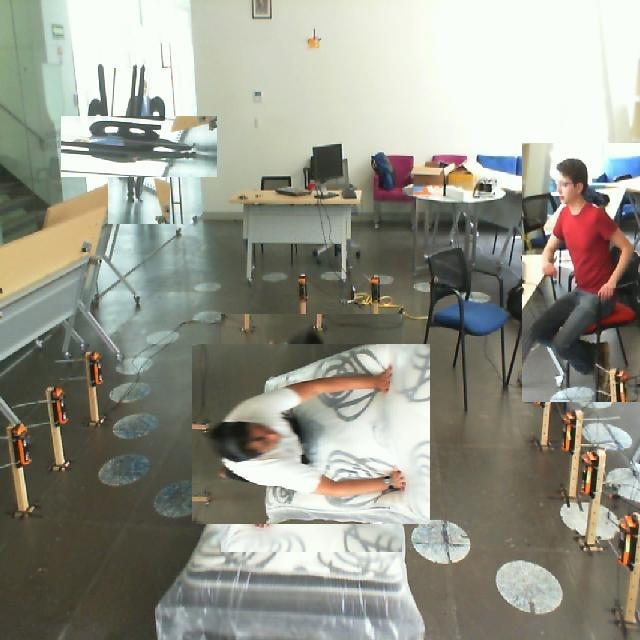Fall: (195, 333, 477, 538)
NotFall: (485, 174, 640, 379)
